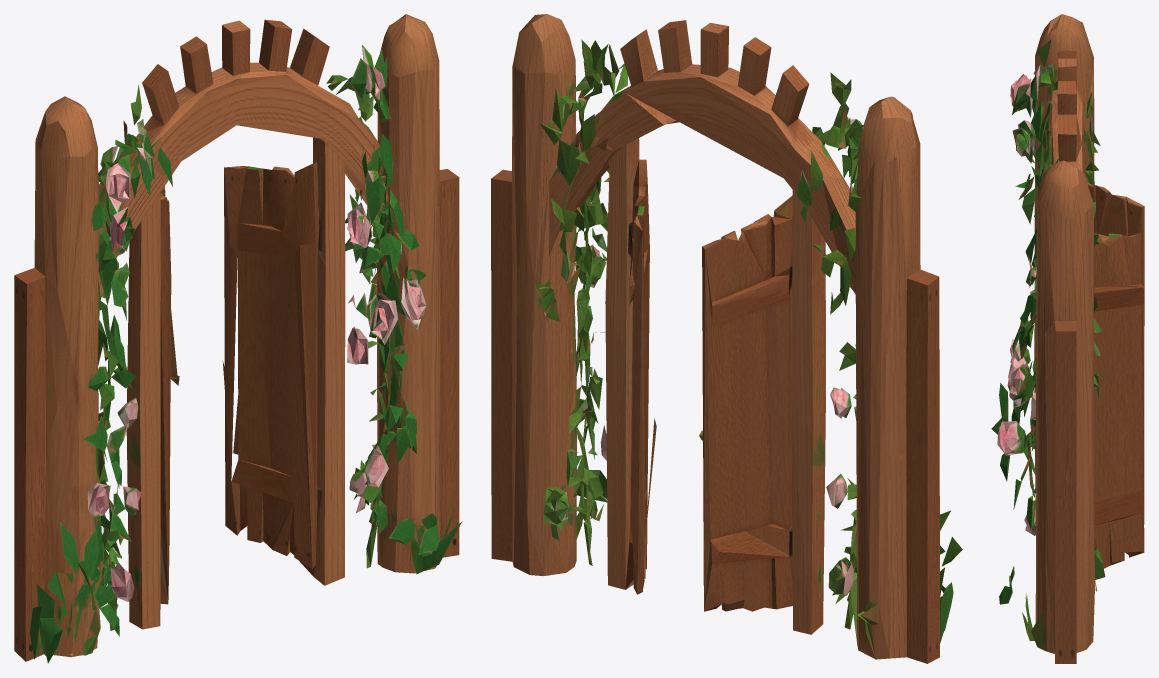
The model's file is rose_arch.glb.
3 renders of one model, left to right at view 1: azimuth 30°, elevation 25°; view 2: azimuth 150°, elevation 25°; view 3: azimuth 270°, elevation 25°, orthographic. The views are drawn at different scales.
Parts seen in each view (by area): view 1: geometry_0; view 2: geometry_0; view 3: geometry_0.
Part boxes in pixels (x1,y1,x2,y2): geometry_0: (14,14,462,663); geometry_0: (491,14,962,663); geometry_0: (991,14,1144,663).
Size of the model in its own units: 2.6 by 3.3 by 0.9.
Materials: 1 (1 with a texture image).
